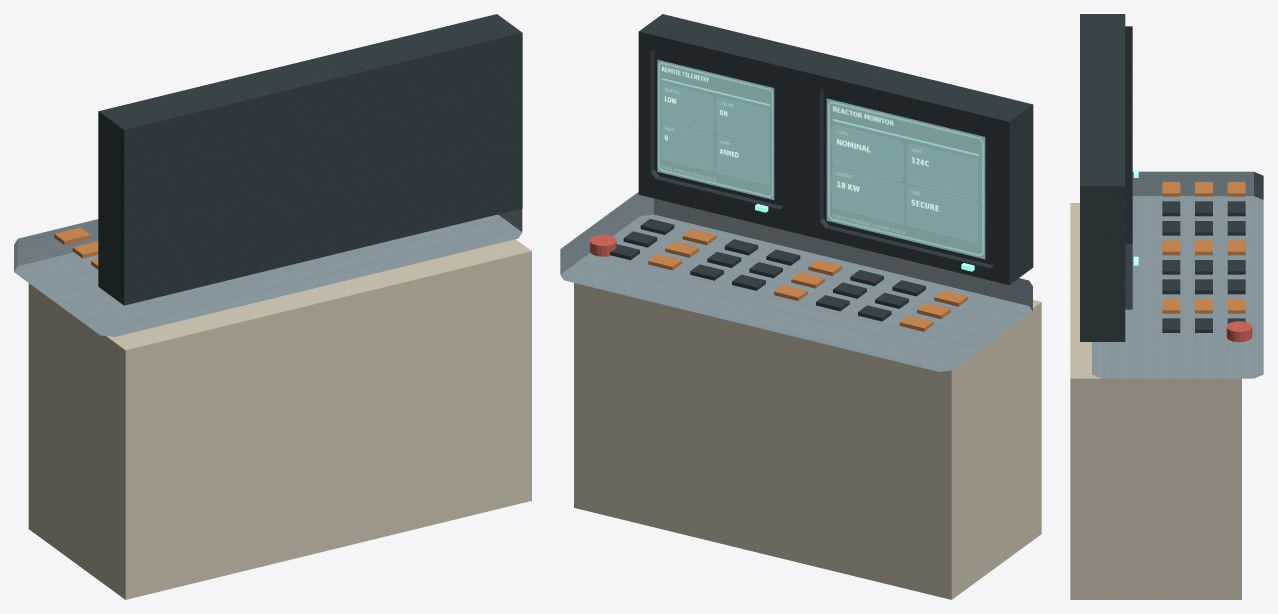
File: reactor_monitor_console.glb
The picture shows the model from 3 angles, left to right: view 1: azimuth 30°, elevation 25°; view 2: azimuth 150°, elevation 25°; view 3: azimuth 270°, elevation 25°; orthographic projection. The views are drawn at different scales.
Visible parts, largest first — view 1: Cabinet__cream, Display_Wall__graphite, Work_Top__alloy, Physical_Controls__amber; view 2: Cabinet__cream, Display_Wall__graphite, Work_Top__alloy, Display__ui_reactor_main, Display__ui_reactor_aux, Physical_Controls__graphite, Physical_Controls__amber, Display__graphite; view 3: Cabinet__cream, Work_Top__alloy, Display_Wall__graphite, Physical_Controls__graphite, Physical_Controls__amber, Display__graphite, Alarm__red.
Boxes of the visible parts, x1,y1,x2,y2 form: Cabinet__cream: (28,239,531,599); Display_Wall__graphite: (98,14,522,305); Work_Top__alloy: (14,208,522,336); Physical_Controls__amber: (54,227,98,269); Cabinet__cream: (574,283,1041,599); Display_Wall__graphite: (638,14,1033,284); Work_Top__alloy: (560,192,1032,371); Display__ui_reactor_main: (826,98,985,259); Display__ui_reactor_aux: (657,59,774,199); Physical_Controls__graphite: (610,218,925,321); Physical_Controls__amber: (648,229,967,331); Display__graphite: (650,48,993,268); Cabinet__cream: (1070,203,1241,599); Work_Top__alloy: (1092,171,1263,378); Display_Wall__graphite: (1080,14,1125,341); Physical_Controls__graphite: (1162,201,1245,332); Physical_Controls__amber: (1162,182,1245,313); Display__graphite: (1125,26,1132,309); Alarm__red: (1226,321,1252,342).
Size of the model in its own units: 1.61 by 1.7 by 0.72.
Materials: 8 (8 with a texture image).
